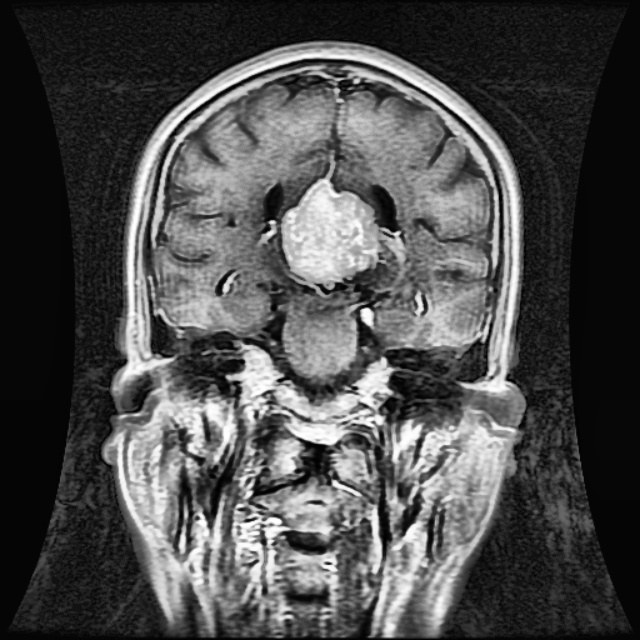Glioma: (279, 178, 379, 287)
